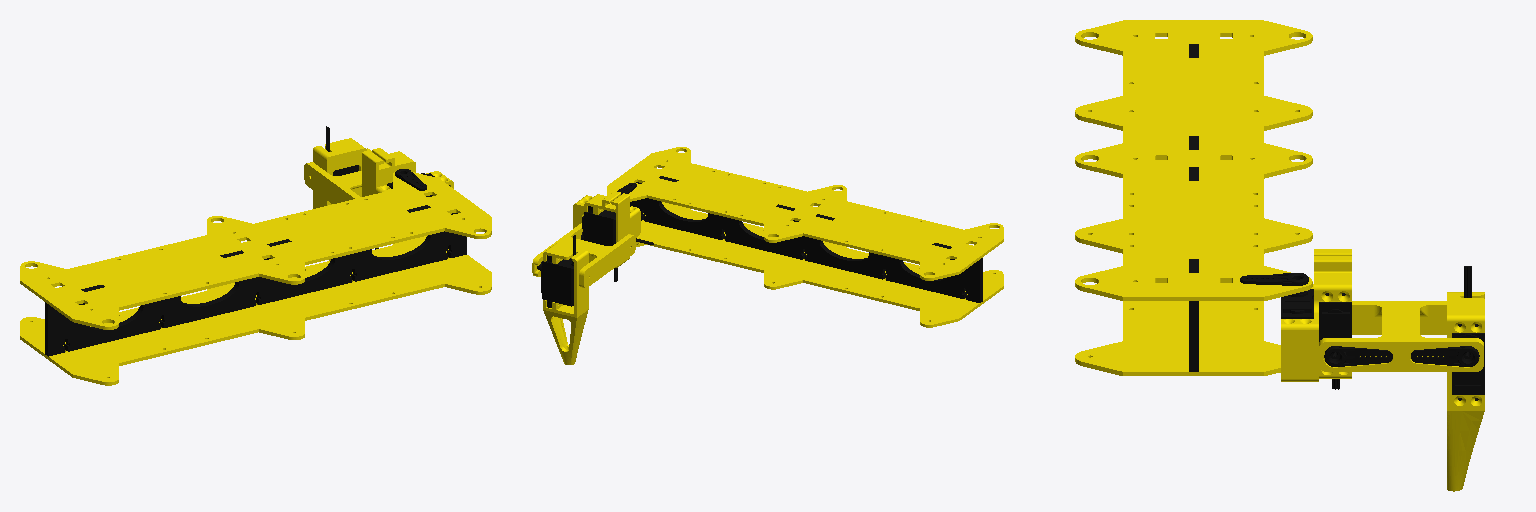
The robot description file, URDF, robot "hexapod":
<robot name="hexapod">
    <link name="body_top">
      <visual>
        <origin rpy="0 0 0" xyz="0 0 0" />
        <geometry>
          <mesh filename="package://servo/meshes/BodyTop_V16.stl" scale="0.001 0.001 0.001" />
        </geometry>
        <material name="yellow">
            <color rgba="0.98 0.90 0.04 1"/>
        </material>
      </visual>
    </link>

    <link name="body_bottom">
      <visual>
        <origin rpy="0 0 0" xyz="0 0 0" />
        <geometry>
          <mesh filename="package://servo/meshes/BodyBottom_V16.stl" scale="0.001 0.001 0.001" />
        </geometry>
        <material name="yellow"/>
      </visual>
    </link>

    <link name="body_center">
      <visual>
        <origin rpy="0 0 0" xyz="0 0 0" />
        <geometry>
          <mesh filename="package://servo/meshes/CenterStrut_V16.stl" scale="0.001 0.001 0.001" />
        </geometry>
        <material name="dark_grey">
            <color rgba="0.1 0.1 0.1 1"/>
        </material>
      </visual>
    </link>

    <link name="left_hip">
      <visual>
        <origin rpy="0 0 0" xyz="0 0 0" />
        <geometry>
          <mesh filename="package://servo/meshes/LeftHip_V15.stl" scale="0.001 0.001 0.001" />
        </geometry>
        <material name="yellow"/>
      </visual>
    </link>

    <link name="left_front_yaw_servo_base">
      <visual>
        <origin xyz="0.01035 0 -0.0292"/>
        <geometry>
          <mesh filename="package://servo/meshes/Servo.stl"/>
        </geometry>
        <material name="dark_grey"/>
      </visual>
    </link>

    <link name="left_front_pitch_servo_base">
      <visual>
        [<origin xyz="0 0 0"/>
        <geometry>
          <mesh filename="package://servo/meshes/Servo.stl"/>
        </geometry>
        <material name="dark_grey"/>
      </visual>
    </link>

    <link name="left_front_yaw_servo_horn">
      <visual>
        <origin xyz="0 0 0" />
        <geometry>
          <mesh filename="package://servo/meshes/ServoHorn.stl"/>
        </geometry>
        <material name="dark_grey"/>
      </visual>
    </link>

    <link name="left_front_pitch_servo_horn">
      <visual>
        <origin xyz="0 0 0" />
        <geometry>
          <mesh filename="package://servo/meshes/ServoHorn.stl"/>
        </geometry>
        <material name="dark_grey"/>
      </visual>
    </link>

    <link name="left_front_thigh">
        <visual>
            <origin xyz="0.090 0.02921 -0.00995" />
            <geometry>
                <mesh filename="package://servo/meshes/Thigh_V15.stl" scale="0.001 0.001 0.001" />
            </geometry>
            <material name="yellow"/>
        </visual>
    </link>

    <link name="left_front_knee_servo_horn">
        <visual>
            <origin xyz="0 0 0" />
            <geometry>
                <mesh filename="package://servo/meshes/ServoHorn.stl"/>
            </geometry>
            <material name="dark_grey"/>
        </visual>
    </link>

    <link name="left_front_knee_servo_base">
        <visual>
            <origin xyz="0.01035 0 -0.0292" />
            <geometry>
                <mesh filename="package://servo/meshes/Servo.stl"/>
            </geometry>
            <material name="dark_grey"/>
        </visual>
    </link>

    <link name="left_front_shin">
      <visual>
        <origin xyz="0 0 0"/>
        <geometry>
          <mesh filename="package://servo/meshes/LeftShin_V15.stl" scale="0.001 0.001 0.001" />
        </geometry>
        <material name="yellow"/>
      </visual>
    </link>

    <joint name="body_top_to_bottom" type="fixed">
      <origin xyz="0 0 0"/>
      <parent link="body_top"/>
      <child link="body_bottom"/>
    </joint>

    <joint name="body_top_to_center" type="fixed">
      <origin xyz="0 0 0"/>
      <parent link="body_top"/>
      <child link="body_center"/>
    </joint>

    <joint name="body_to_front_left" type="fixed">
      <origin rpy="3.1415927 0 -1.5707963" xyz="0 0 0.005"/>
      <parent link="body_top"/>
      <child link="left_front_yaw_servo_horn"/>
    </joint>

    <joint name="swivel" type="continuous">
      <origin rpy="0 3.1415927 1.5707963" xyz="0 0 0"/>
      <axis xyz="0 0 -1" />
      <parent link="left_front_yaw_servo_horn"/>
      <child link="left_front_yaw_servo_base"/>
    </joint>

    <joint name="hip_yaw_servo" type="fixed">

      <origin xyz="0.01035 0.00995 -0.0292"/>
      <parent link="left_front_yaw_servo_base"/>
      <child link="left_hip"/>
    </joint>

    <joint name="hip_pitch_servo" type="fixed">
      <origin rpy="0 -1.57079632679 3.1415927" xyz="-0.00991 0.01295 0.001005" />
      <parent link="left_hip"/>
      <child link="left_front_pitch_servo_base"/>
    </joint>

    <joint name="left_front_pitch_swivel" type="continuous">
      <origin rpy="3.1415927 0 -1.57079632679" xyz="-0.01035 0 0.0292" />
      <axis xyz="0 0 -1" />
      <parent link="left_front_pitch_servo_base"/>
      <child link="left_front_pitch_servo_horn"/>
    </joint>

    <joint name="left_front_thigh" type="fixed">
        <origin rpy="1.5707963 0 0" xyz="0 0 0"/>
        <parent link="left_front_pitch_servo_horn"/>
        <child link="left_front_thigh"/>
    </joint>

    <joint name="left_front_knee" type="fixed">
        <origin rpy="-1.5707963 3.1415927 0" xyz="0.080 0 0"/>
        <parent link="left_front_thigh"/>
        <child link="left_front_knee_servo_horn"/>
    </joint>

    <joint name="left_front_knee_swivel" type="continuous">
      <origin rpy="3.1415927 0 -1.5707963" xyz="0 0 0"/>
      <axis xyz="0 0 -1" />
      <parent link="left_front_knee_servo_horn"/>
      <child link="left_front_knee_servo_base"/>
    </joint>

    <joint name="left_front_shin" type="fixed">
        <origin rpy="-1.5707963 0 0" xyz="0.01035 -0.00995 -0.02889"/>
        <parent link="left_front_knee_servo_base"/>
        <child link="left_front_shin"/>
    </joint>
</robot>

--- Render facts (derived) ---
3 views of the same robot in one strip: view 1: azimuth 30°, elevation 25°; view 2: azimuth 150°, elevation 25°; view 3: azimuth 270°, elevation 25° (orthographic).
Robot: hexapod — 12 links, 11 joints (3 continuous, 8 fixed); root link body_top; default pose: all joints at 0.
Links seen in each view (by area): view 1: body_top, body_bottom, body_center, left_hip, left_front_thigh, left_front_shin; view 2: body_top, body_bottom, body_center, left_front_shin, left_front_thigh, left_hip, left_front_knee_servo_base, left_front_pitch_servo_base; view 3: body_top, body_bottom, left_front_thigh, left_hip, left_front_shin, left_front_pitch_servo_base, left_front_knee_servo_base, body_center, left_front_knee_servo_horn, left_front_pitch_servo_horn, left_front_yaw_servo_base, left_front_yaw_servo_horn.
Boxes of the visible links, x1,y1,x2,y2 form: body_top: [20, 172, 491, 329]; body_bottom: [20, 236, 491, 385]; body_center: [45, 205, 466, 356]; left_hip: [362, 148, 453, 196]; left_front_thigh: [304, 148, 371, 203]; left_front_shin: [313, 138, 366, 260]; body_top: [607, 147, 1003, 280]; body_bottom: [636, 202, 1003, 327]; body_center: [630, 176, 982, 302]; left_front_shin: [543, 243, 588, 364]; left_front_thigh: [532, 223, 635, 288]; left_hip: [573, 191, 640, 267]; left_front_knee_servo_base: [541, 235, 575, 307]; left_front_pitch_servo_base: [582, 206, 617, 281]; body_top: [1075, 20, 1312, 300]; body_bottom: [1075, 96, 1312, 375]; left_front_thigh: [1319, 301, 1483, 371]; left_hip: [1281, 249, 1351, 381]; left_front_shin: [1447, 292, 1484, 491]; left_front_pitch_servo_base: [1319, 293, 1351, 389]; left_front_knee_servo_base: [1452, 266, 1484, 400]; body_center: [1189, 44, 1198, 371]; left_front_knee_servo_horn: [1411, 346, 1479, 366]; left_front_pitch_servo_horn: [1324, 346, 1392, 366]; left_front_yaw_servo_base: [1281, 289, 1313, 318]; left_front_yaw_servo_horn: [1240, 273, 1308, 285].
Size in the robot's own frame: 0.4135 by 0.2469 by 0.1501 metres.
12 mesh visuals loaded from 8 distinct referenced files (8 binary STL).